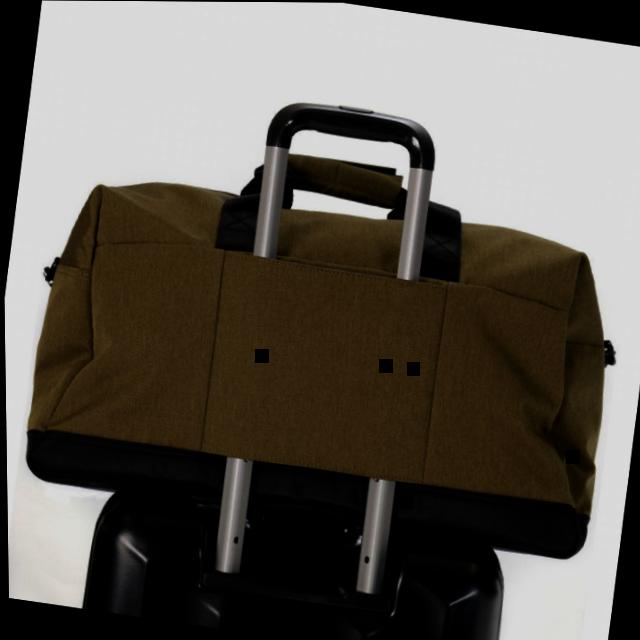luggage: (7, 147, 640, 567)
